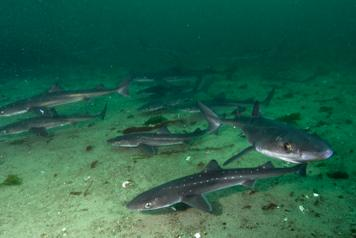Shark -Selachimorpha-: (121, 155, 314, 216), (191, 97, 337, 168), (0, 78, 139, 125), (98, 122, 207, 157)
